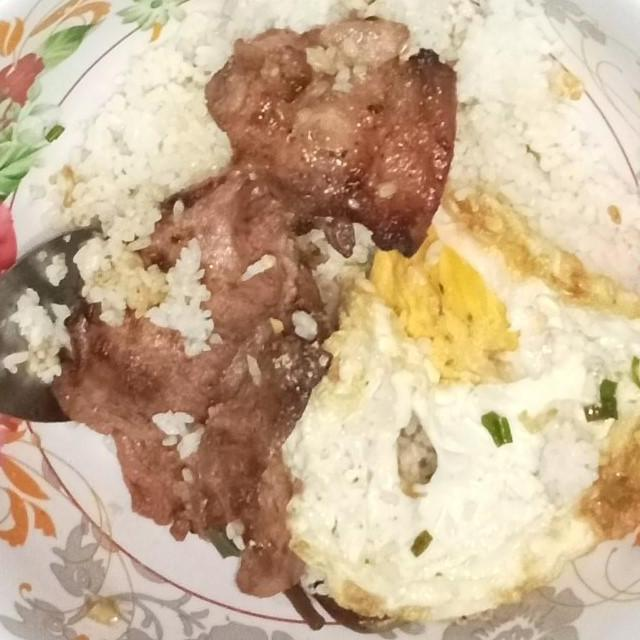com: (434, 0, 640, 303), (15, 14, 250, 258), (0, 227, 220, 392), (219, 0, 486, 79)
suon: (43, 159, 339, 603), (197, 10, 461, 262)
trung: (263, 174, 640, 626)
